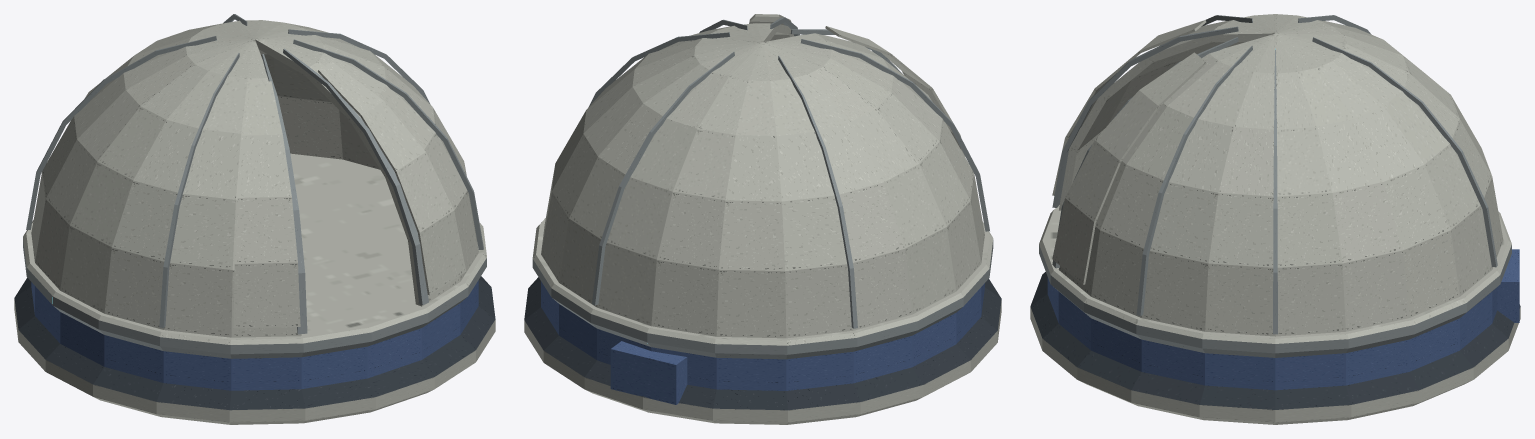
Rendered from ObservatoryDome.fbx.
3 renders of one model, left to right at view 1: azimuth 30°, elevation 25°; view 2: azimuth 150°, elevation 25°; view 3: azimuth 270°, elevation 25°, orthographic. The views are drawn at different scales.
Parts seen in each view (by area): view 1: ObservatoryDome; view 2: ObservatoryDome; view 3: ObservatoryDome.
Boxes of the visible parts, box(x1,y1,x2,y2) form: ObservatoryDome: box(14, 14, 495, 424); ObservatoryDome: box(524, 14, 1001, 424); ObservatoryDome: box(1030, 14, 1520, 424).
Bounding box in the file's own units: 1140 × 754 × 1140.
